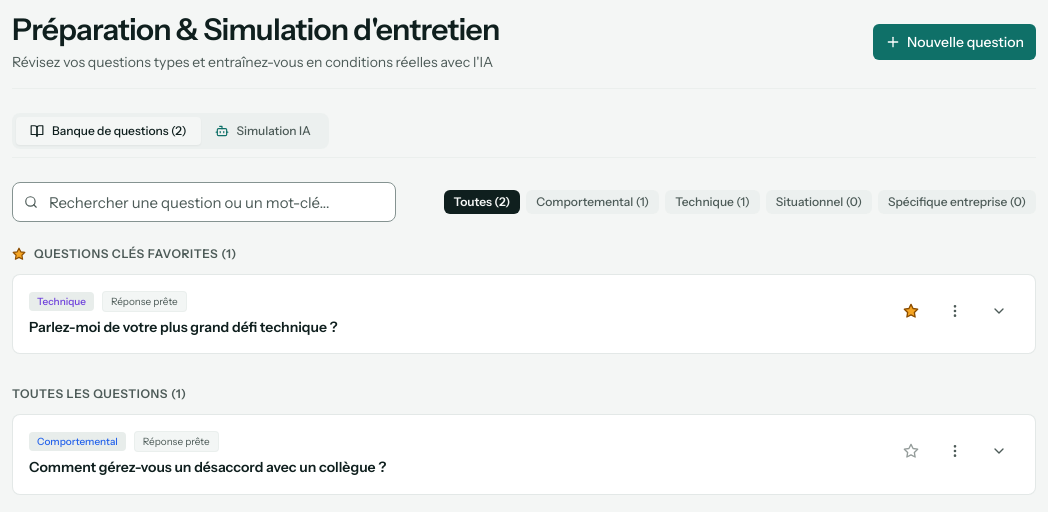
Test: Page: InterviewPrepPage › filters questions by category chips
Check: the heading "Parlez-moi de votre plus grand défi technique ?" is shown, box [29, 318, 338, 336]
Click the button "Technique (1)" at [712, 202], box [665, 190, 760, 214]
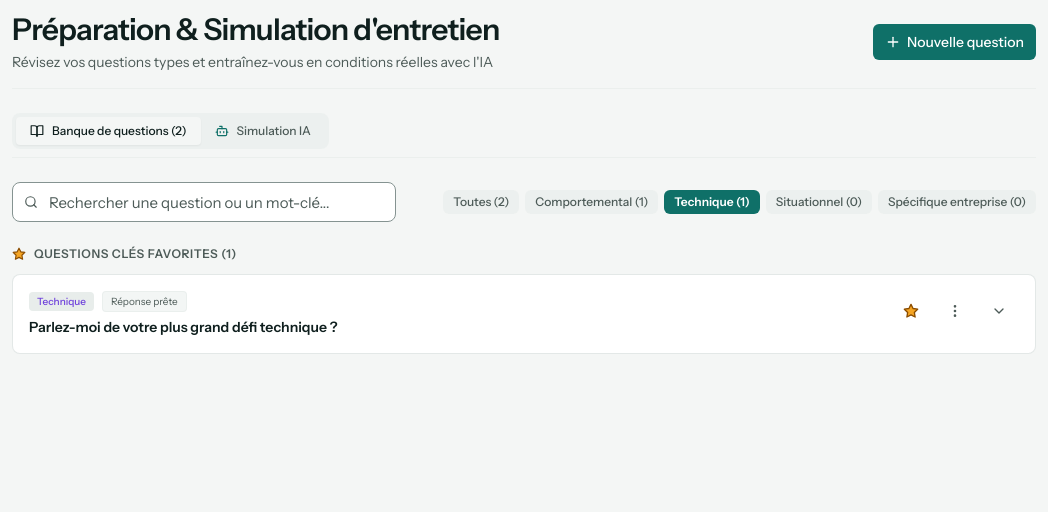
Check: the heading "Parlez-moi de votre plus grand défi technique ?" is shown, box [29, 318, 338, 336]
Check: the heading "Comment gérez-vous un désaccord avec un collègue ?" is gone
